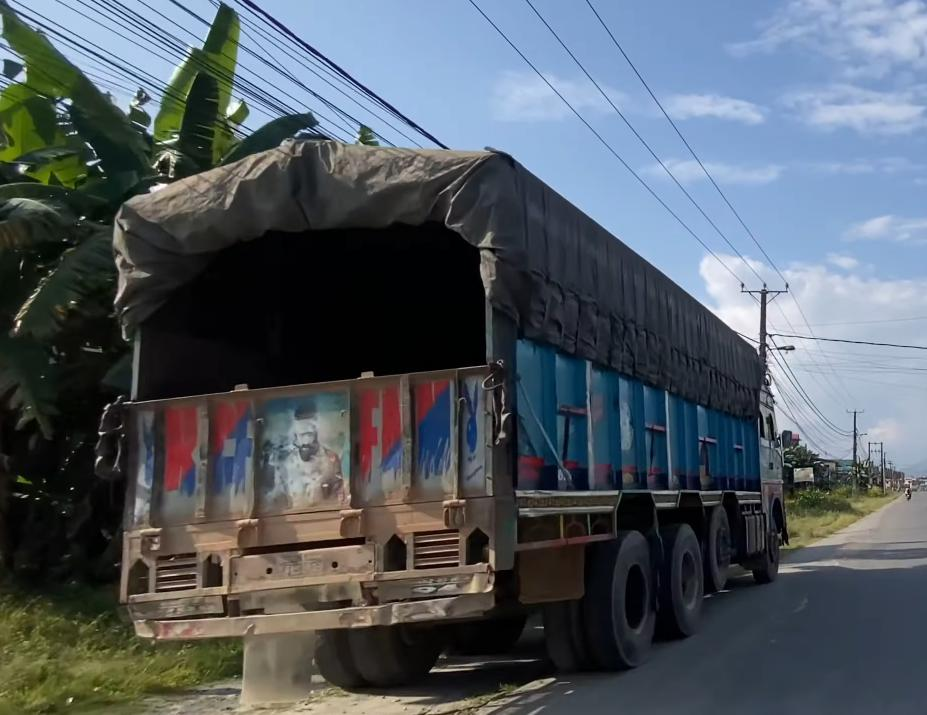truck: (94, 136, 792, 703)
